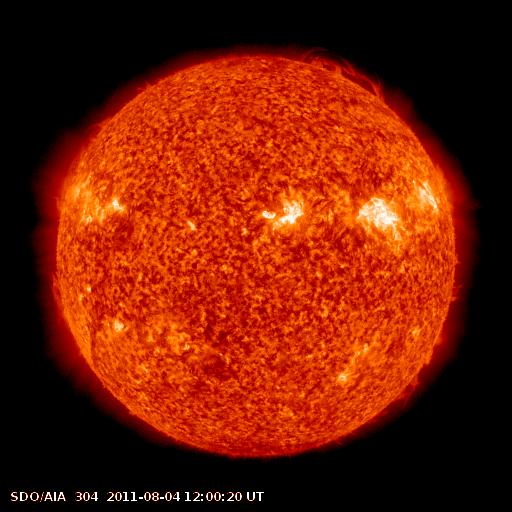prominence: (52, 111, 115, 211), (295, 42, 389, 103), (42, 266, 78, 326)
